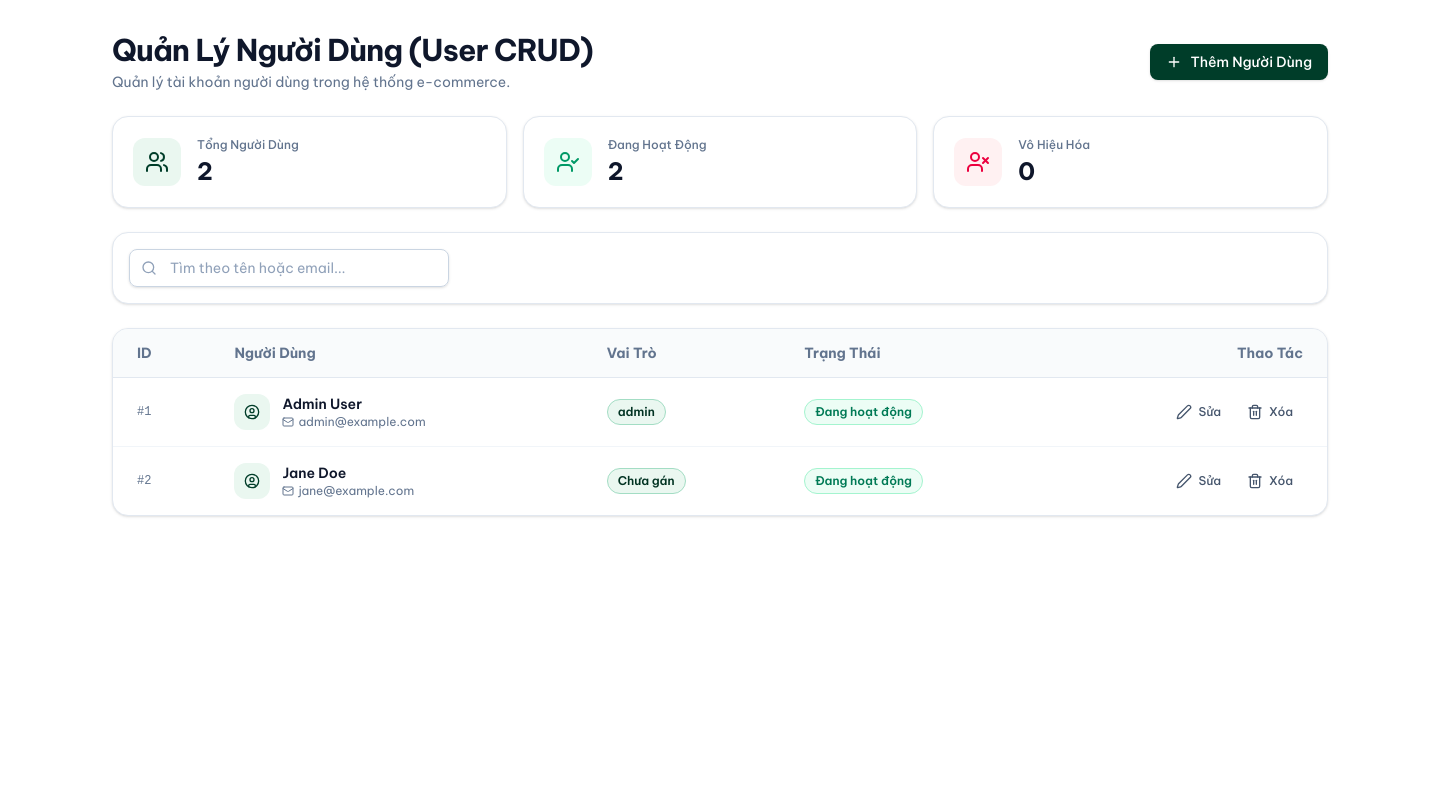
Test case: UsersPage › opens the create modal and creates a user, showing a success banner
The width and height of the screenshot is (1440, 810).
Click the button "Thêm Người Dùng" at [1239, 62], box [1150, 44, 1328, 80]
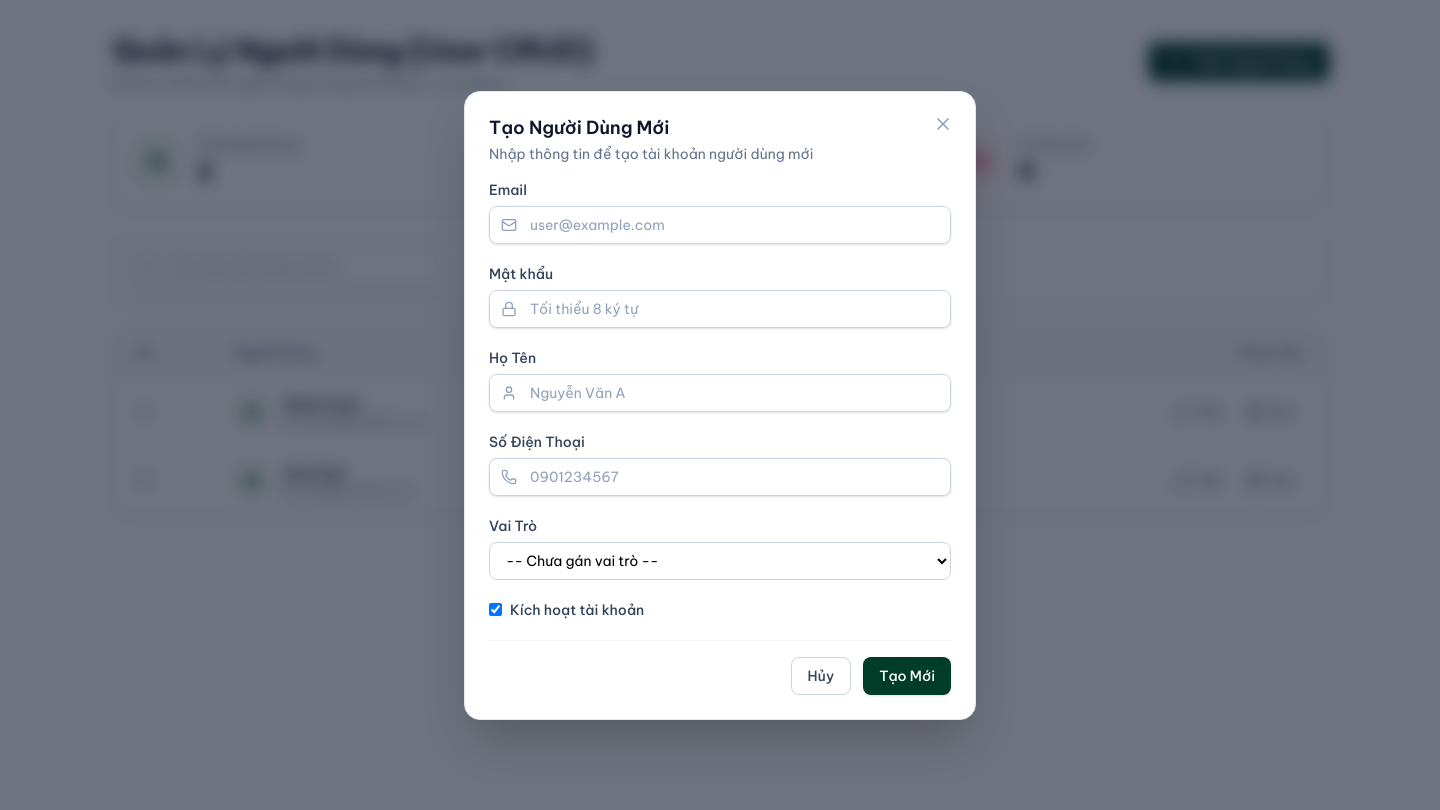
Type "new@example.com" into the field labelled "Email" at [720, 224], box [489, 206, 951, 244]
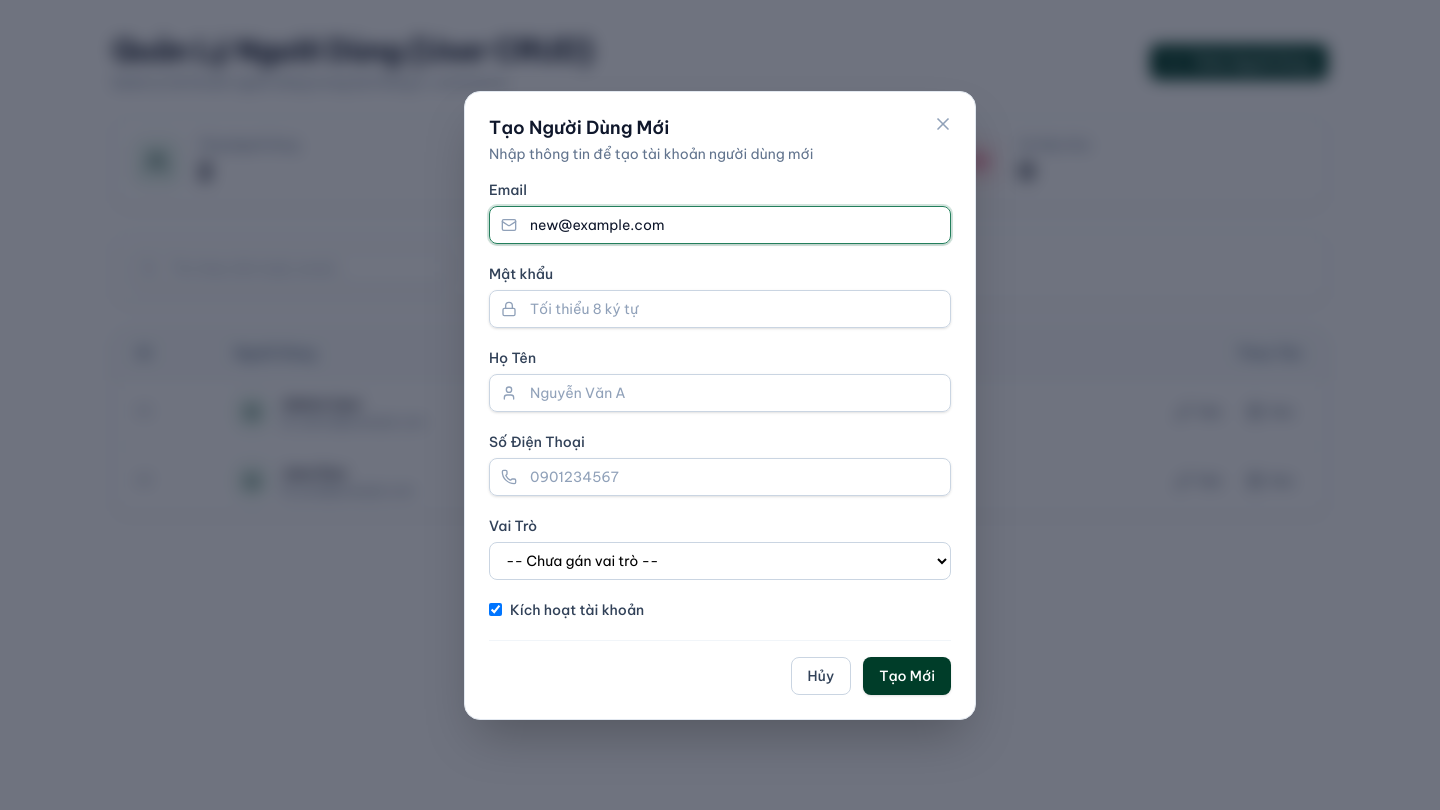
Type "password123" into the password field labelled "Mật khẩu" at [720, 308], box [489, 290, 951, 328]
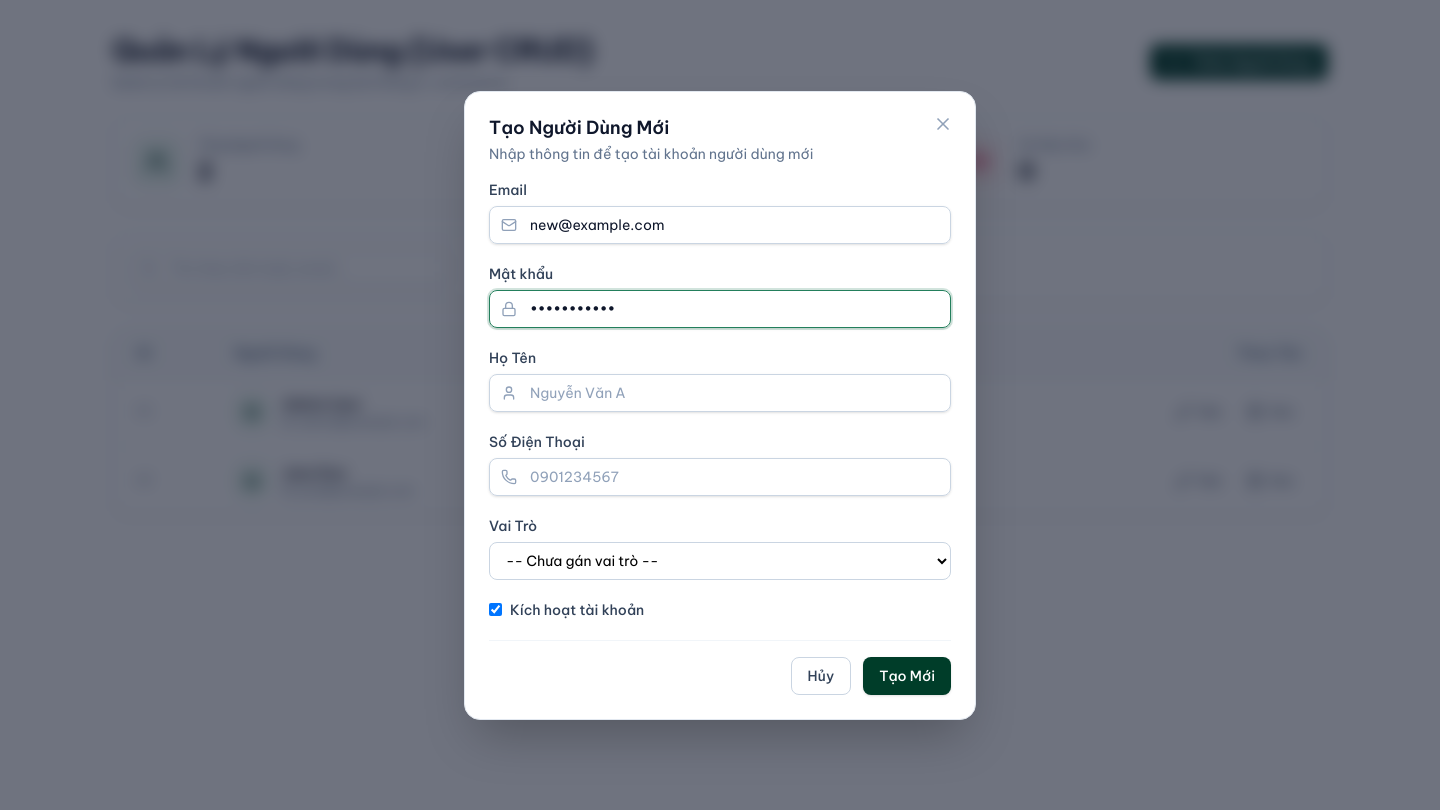
Type "New User" into the field labelled "Họ Tên" at [720, 392], box [489, 374, 951, 412]
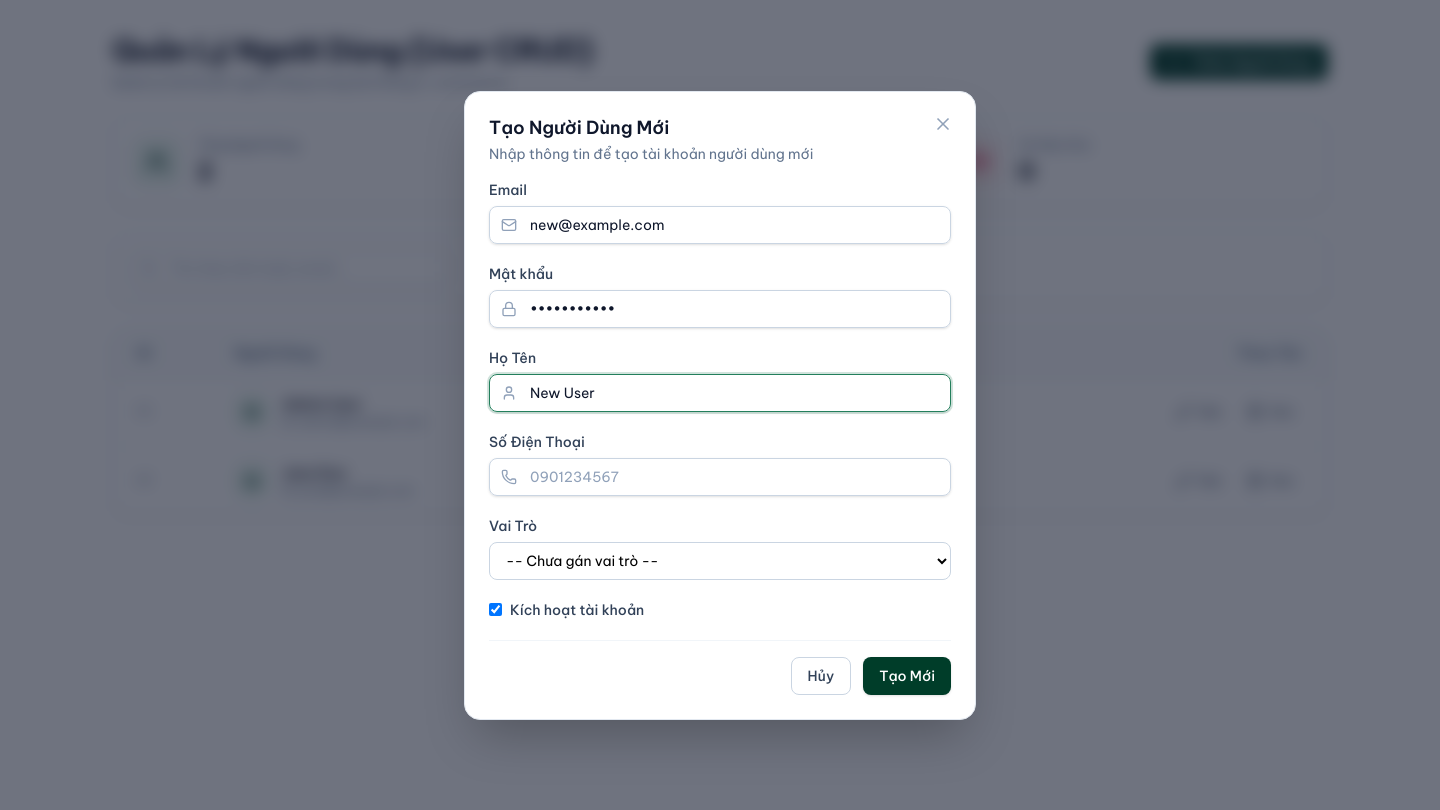
Click the button "Tạo Mới" at [907, 676], box [863, 656, 951, 694]
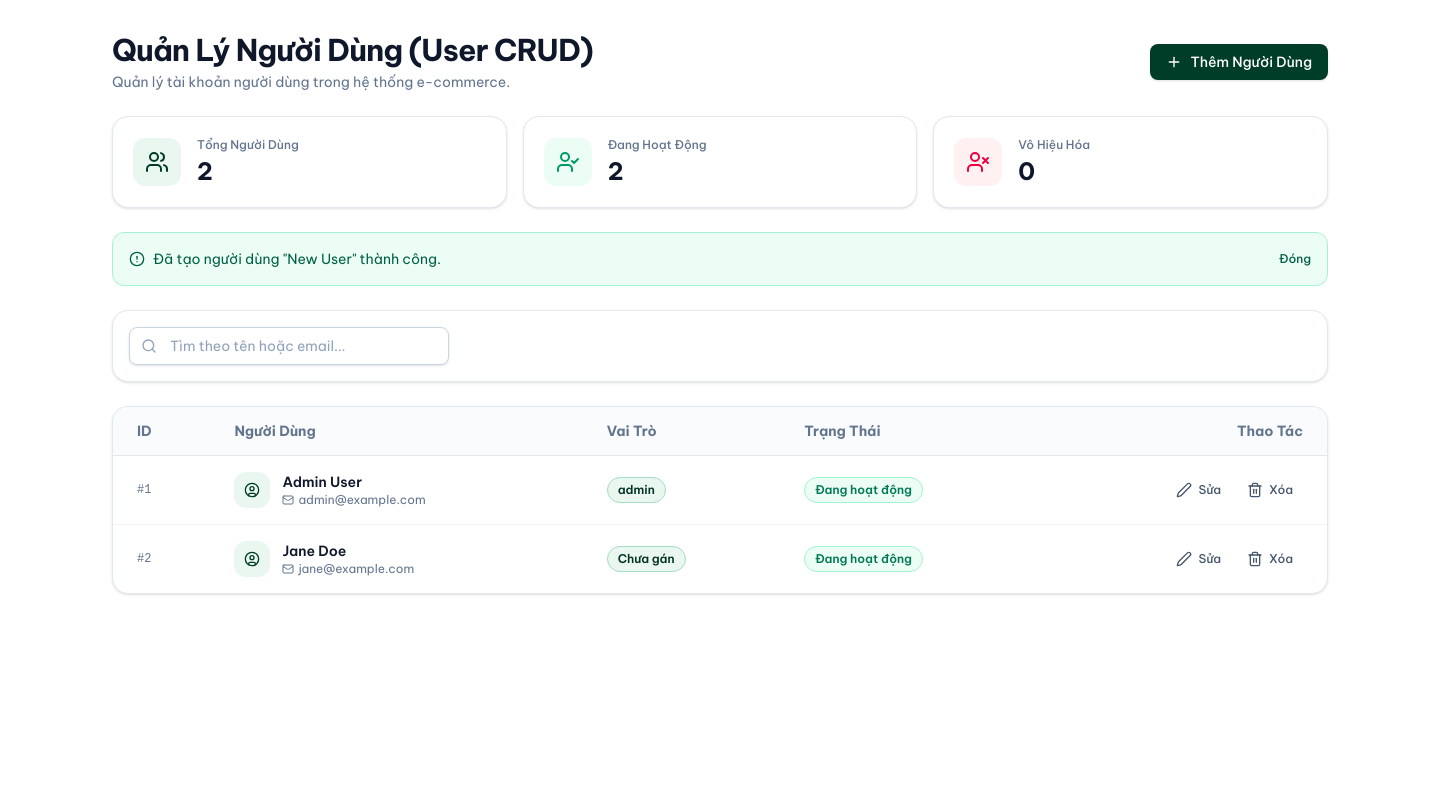
expect the text "Đã tạo người dùng \"New User\" thành công." is shown: met, box [153, 249, 441, 269]
